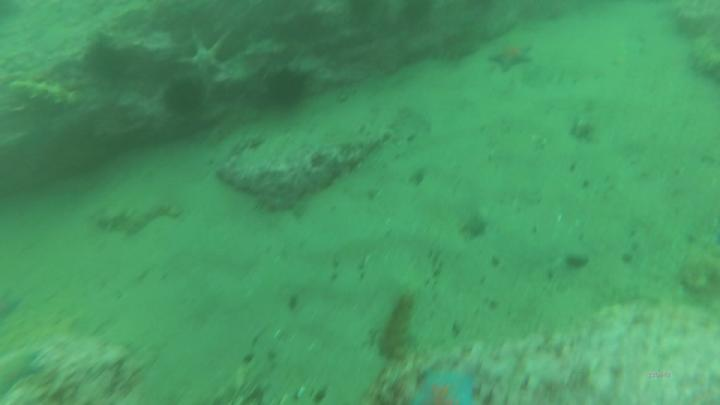echinus: (266, 68, 310, 108), (165, 81, 205, 121)
holothurian: (380, 293, 416, 360), (9, 79, 79, 111), (100, 205, 143, 234)
starfish: (181, 32, 231, 80), (414, 370, 477, 405), (493, 40, 531, 73)
